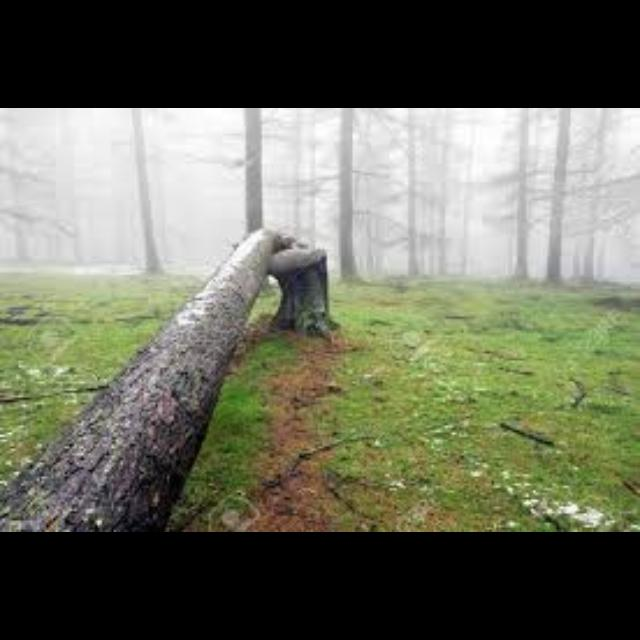Fallen Tree: (11, 210, 321, 530)
